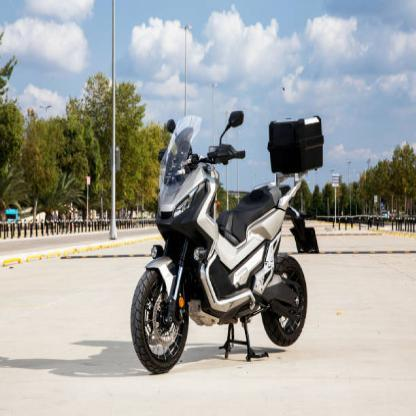Motorcycle: (131, 91, 325, 373)
